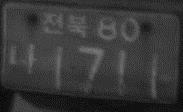0: (120, 16, 140, 43)
1: (147, 51, 164, 103), (115, 49, 130, 99), (53, 44, 65, 92)
7: (77, 43, 107, 97)
8: (97, 14, 117, 41)
나: (9, 41, 38, 77)
전북_O: (40, 10, 88, 39)
